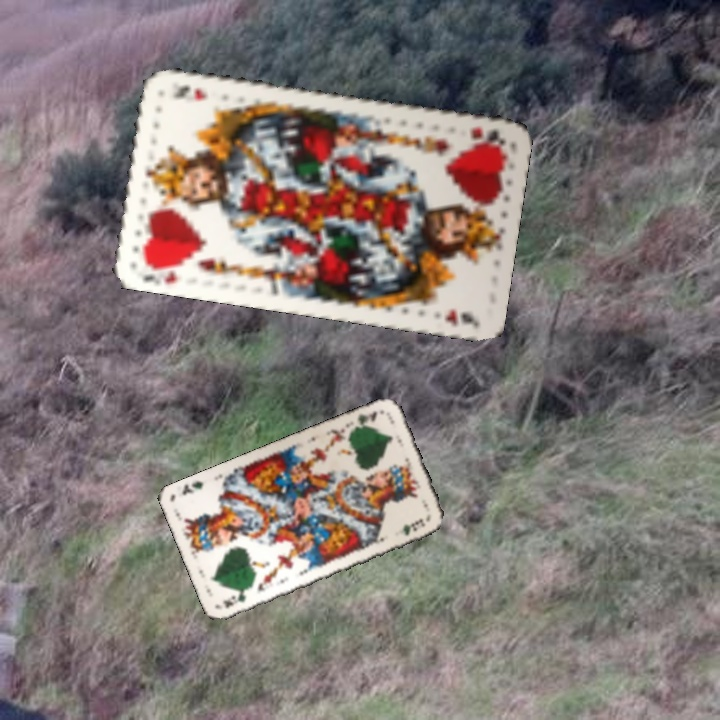GK: (349, 406, 381, 433), (218, 588, 249, 611)
HK: (137, 256, 189, 287), (465, 122, 506, 149)
